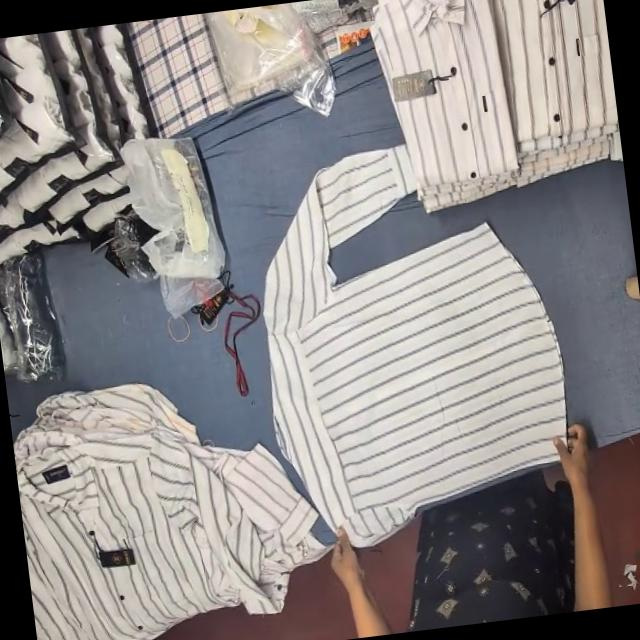new-garment: (264, 146, 565, 542)
